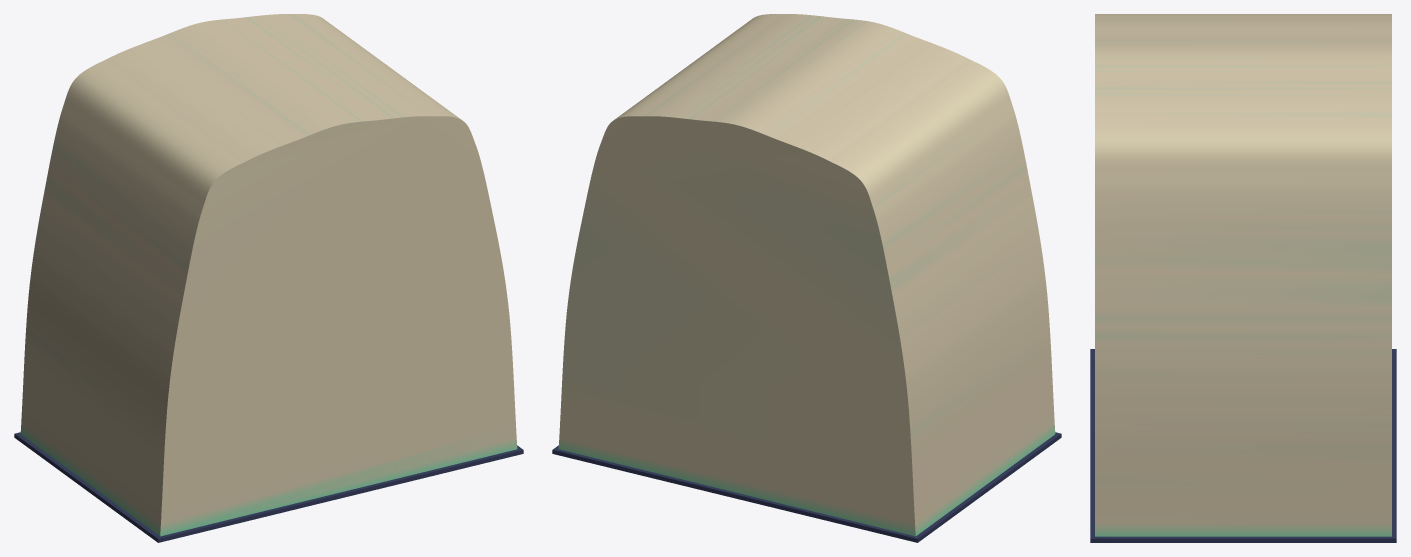
3 renders of one model, left to right at view 1: azimuth 30°, elevation 25°; view 2: azimuth 150°, elevation 25°; view 3: azimuth 270°, elevation 25°, orthographic. The views are drawn at different scales.
Visible parts, largest first — view 1: skin, lip; view 2: skin, lip; view 3: skin, lip.
Boxes of the visible parts, left/top/right/bottom form: skin: left=20, top=14, right=517, bottom=536; lip: left=14, top=432, right=523, bottom=542; skin: left=558, top=14, right=1055, bottom=536; lip: left=552, top=432, right=1061, bottom=542; skin: left=1095, top=14, right=1391, bottom=536; lip: left=1090, top=349, right=1396, bottom=542.
Bounding box in the file's own units: 1.07 × 1.04 × 0.73.
